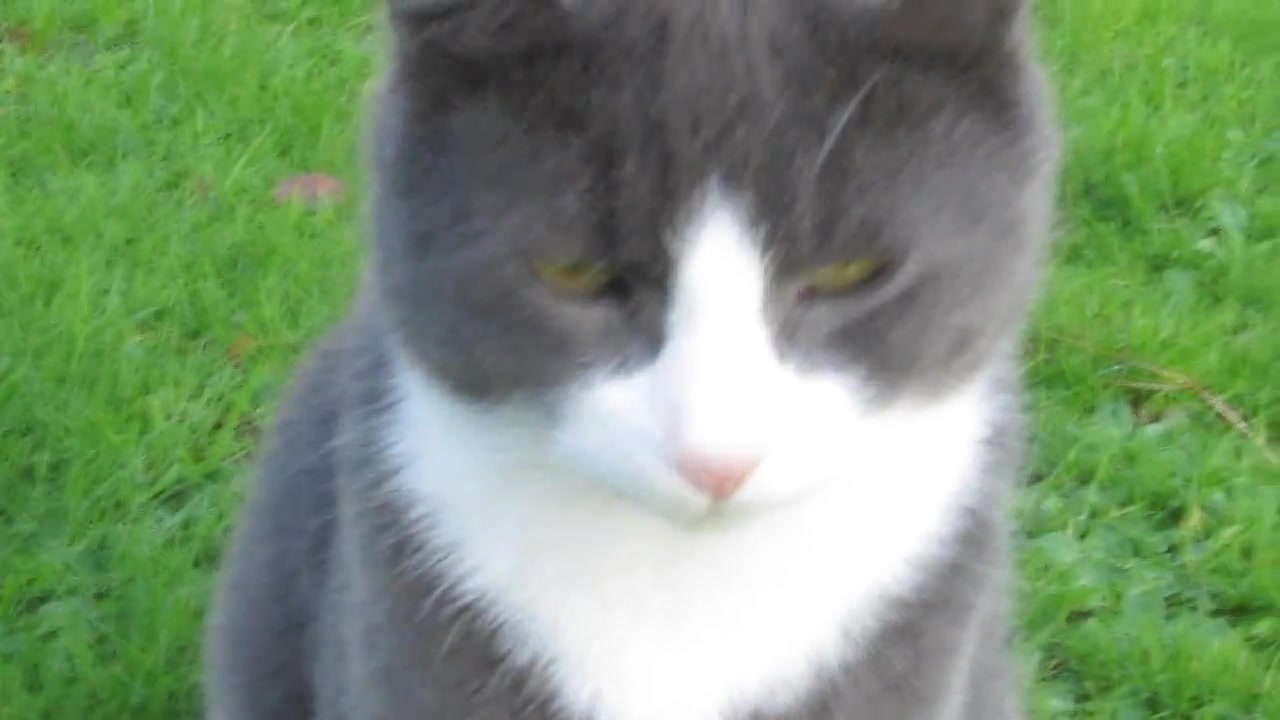cat: (196, 4, 1068, 720)
